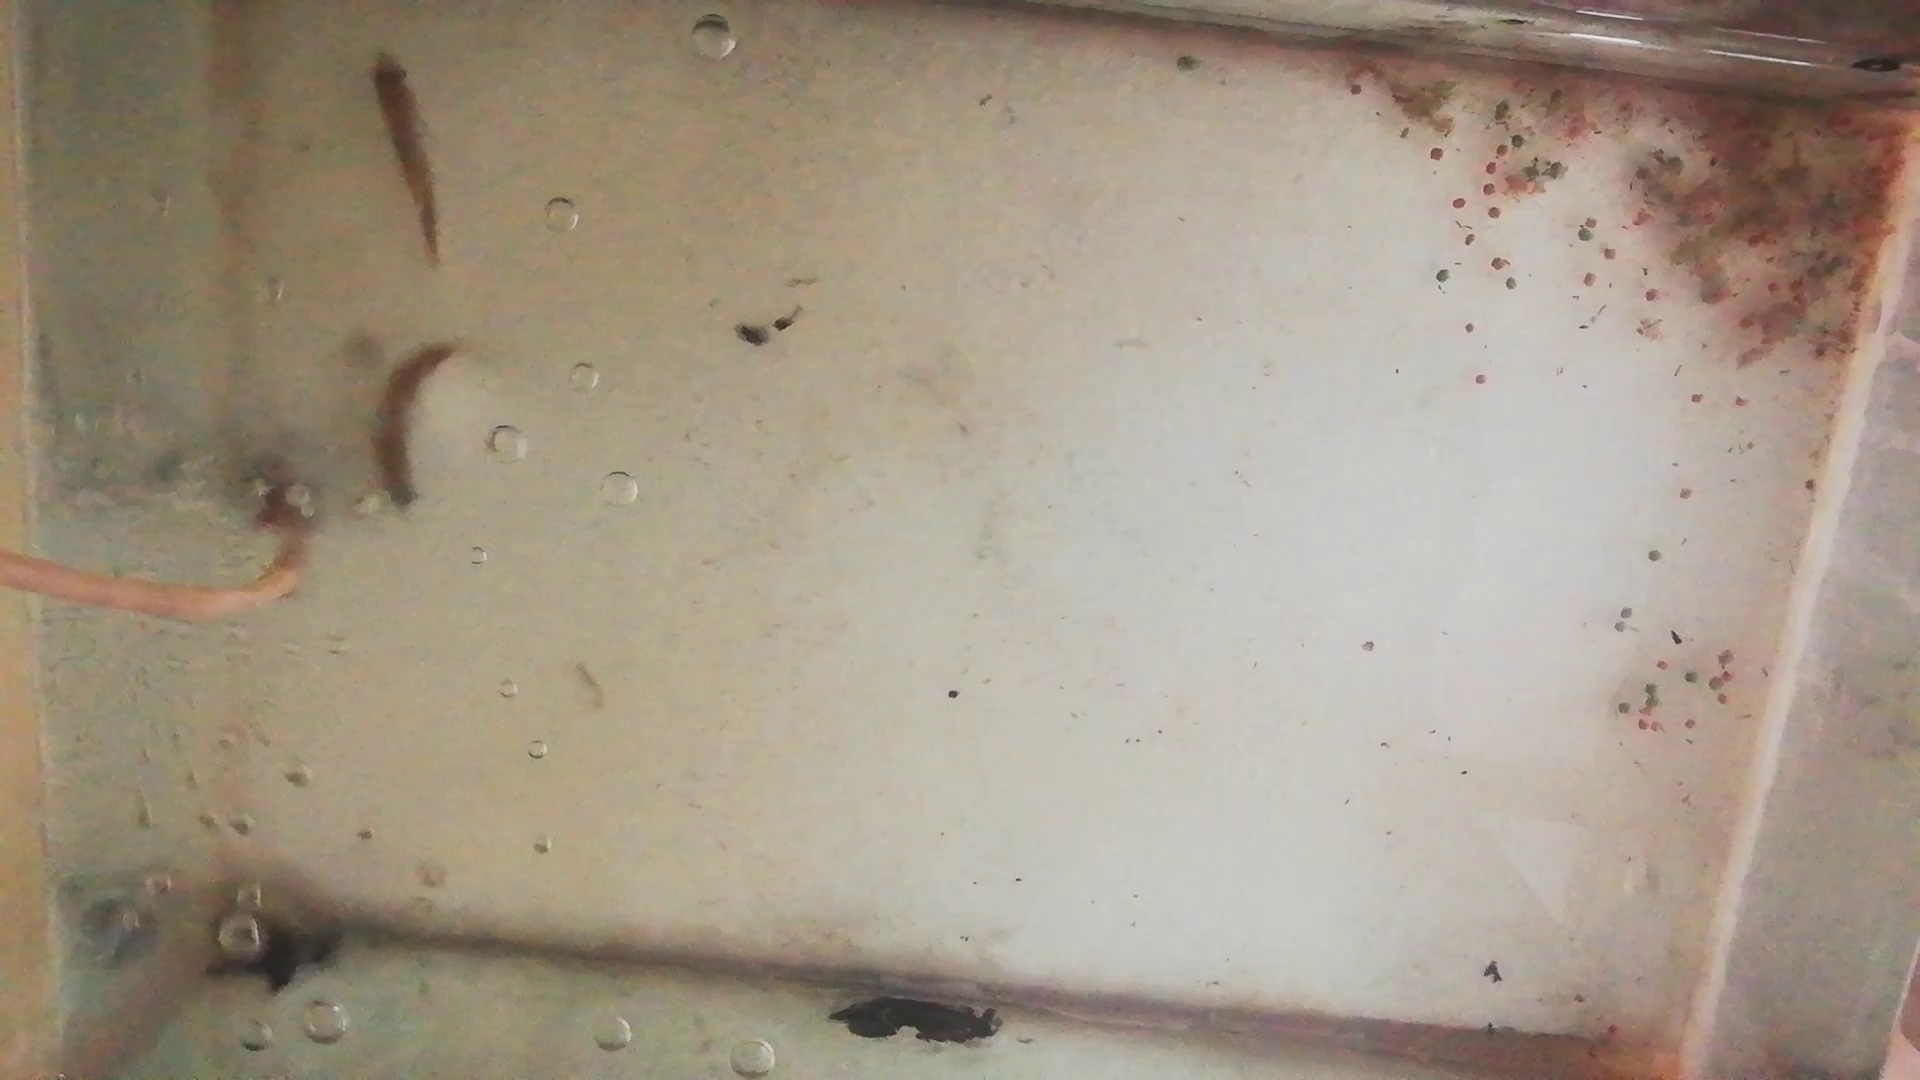fish: (368, 338, 460, 513), (371, 47, 444, 266)
